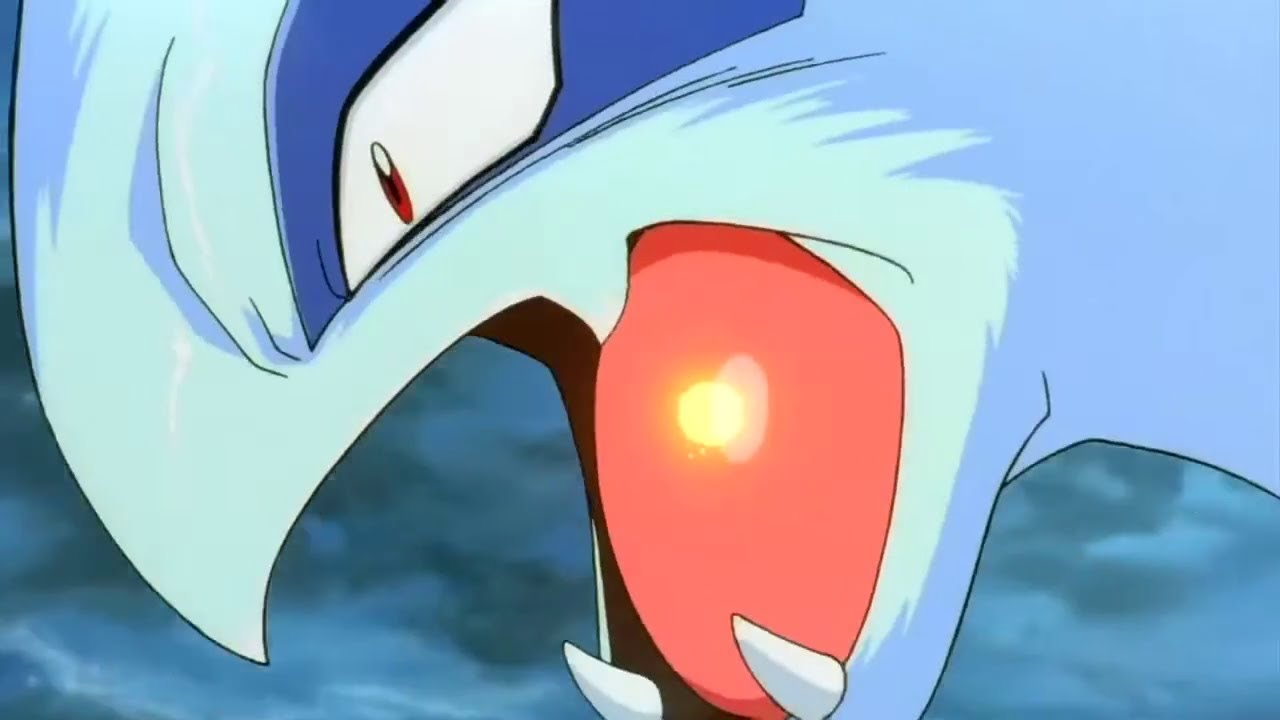lugia: (10, 1, 1280, 712)
